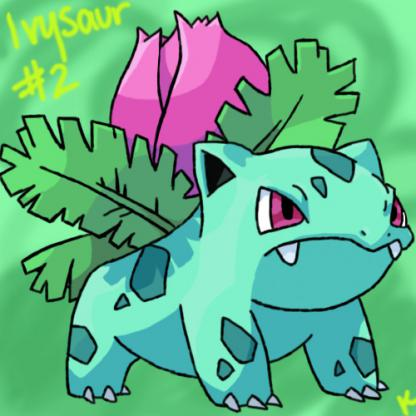Ivysaur: (1, 31, 416, 385)
